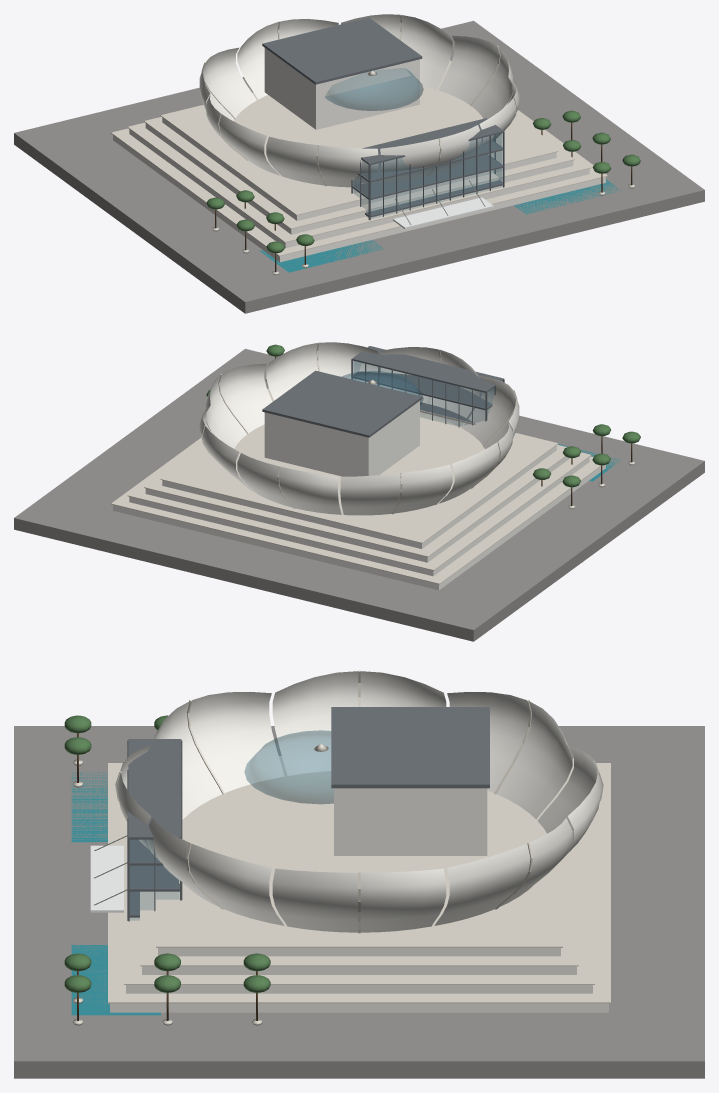
The model's file is map.glb.
3 views of the same model, one above another, from view 1: azimuth 30°, elevation 25°; view 2: azimuth 150°, elevation 25°; view 3: azimuth 270°, elevation 25° (orthographic). The views are drawn at different scales.
Bounding box in the file's own units: 124 × 28.8 × 108.
